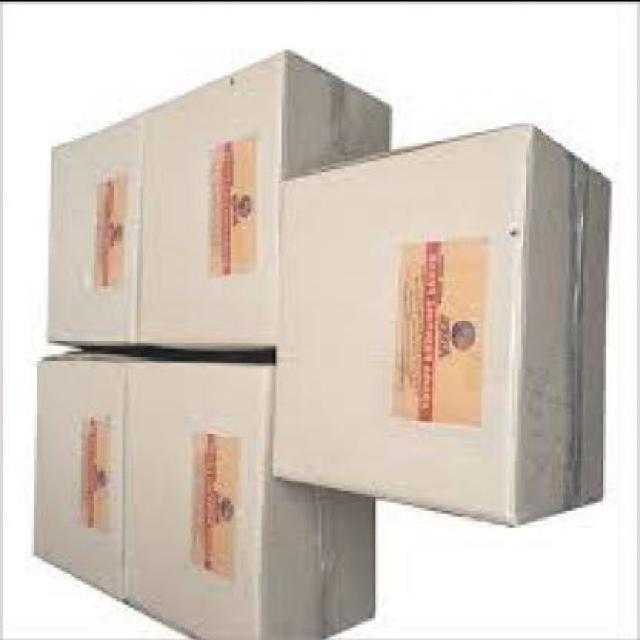CARDBOARD: (280, 126, 606, 528), (137, 54, 395, 358), (124, 362, 378, 638), (40, 355, 128, 600), (49, 114, 140, 348)
